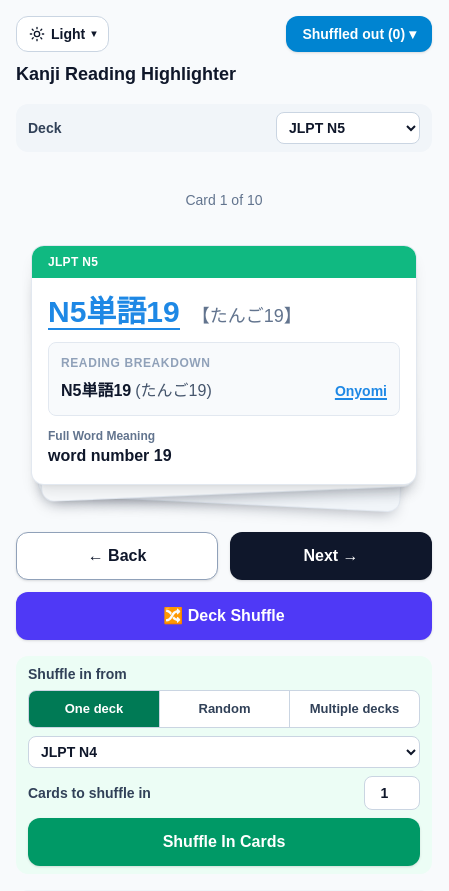
Test: Shuffle In Cards from a deck that hasn’t loaded yet (ARCH2) › changing the card limit while it waits cancels it
The width and height of the screenshot is (449, 891).
Check: the text "Card 1 of 10" is shown, box [186,192,263,208]
Clear the number field labelled "Cards to shuffle in". click: (392, 793)
box: [364,776,420,810]
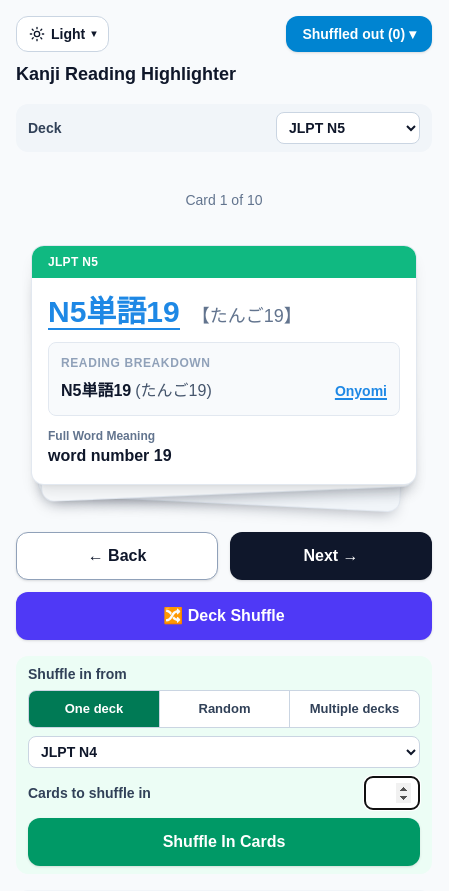
Type keys "1"
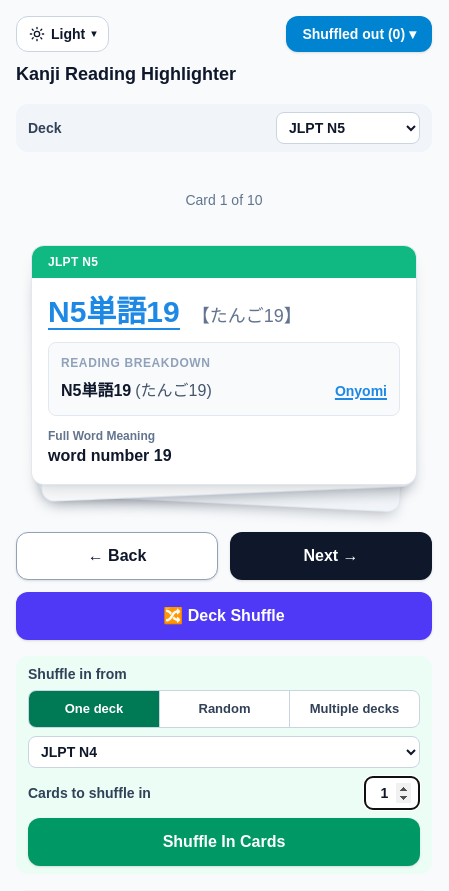
Click the button "Shuffle In Cards". click: (224, 842)
box: [28,818,420,866]
(page scrolled)
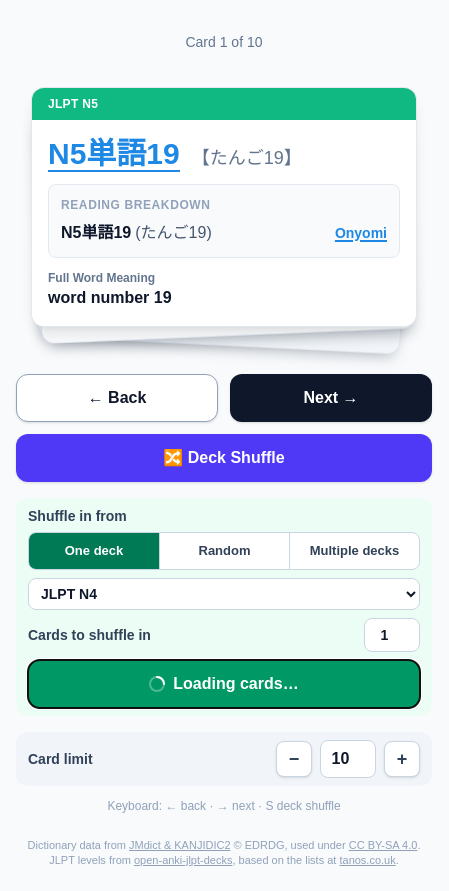
Clear the number field labelled "Card limit". click: (348, 759)
box: [320,740,376,778]
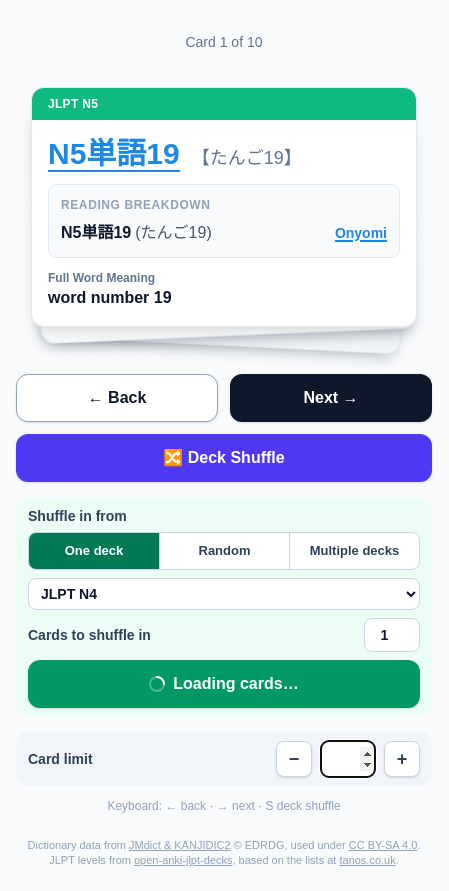
Type keys "5"
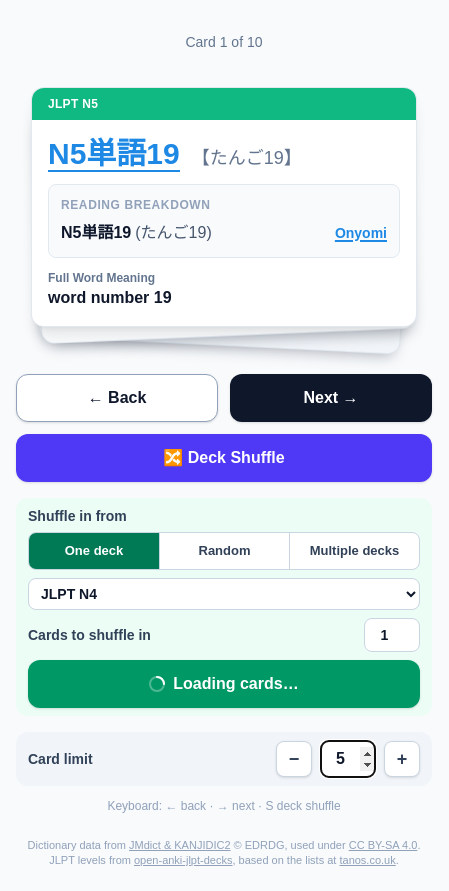
Press Enter
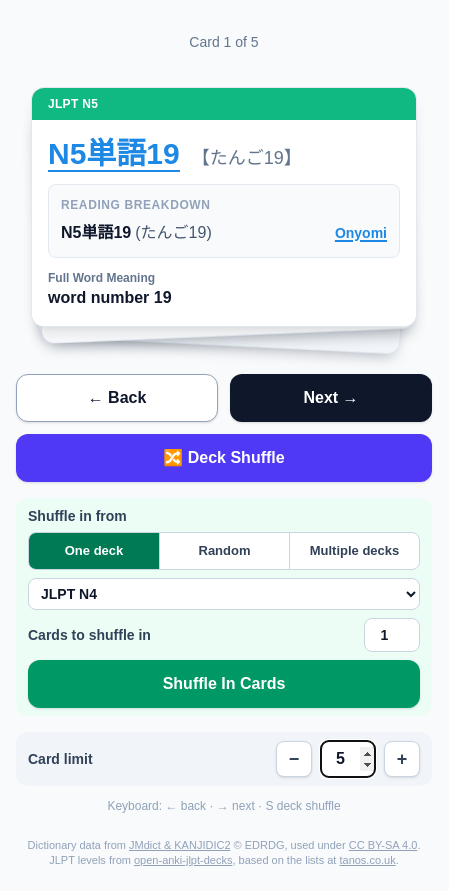
Check: the button "Shuffle In Cards" is shown, box [28,660,420,708]
